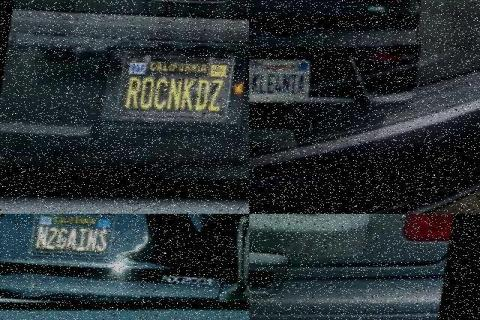LicensePlate: (116, 51, 238, 127), (249, 214, 335, 262), (31, 214, 118, 260), (249, 55, 308, 101)
